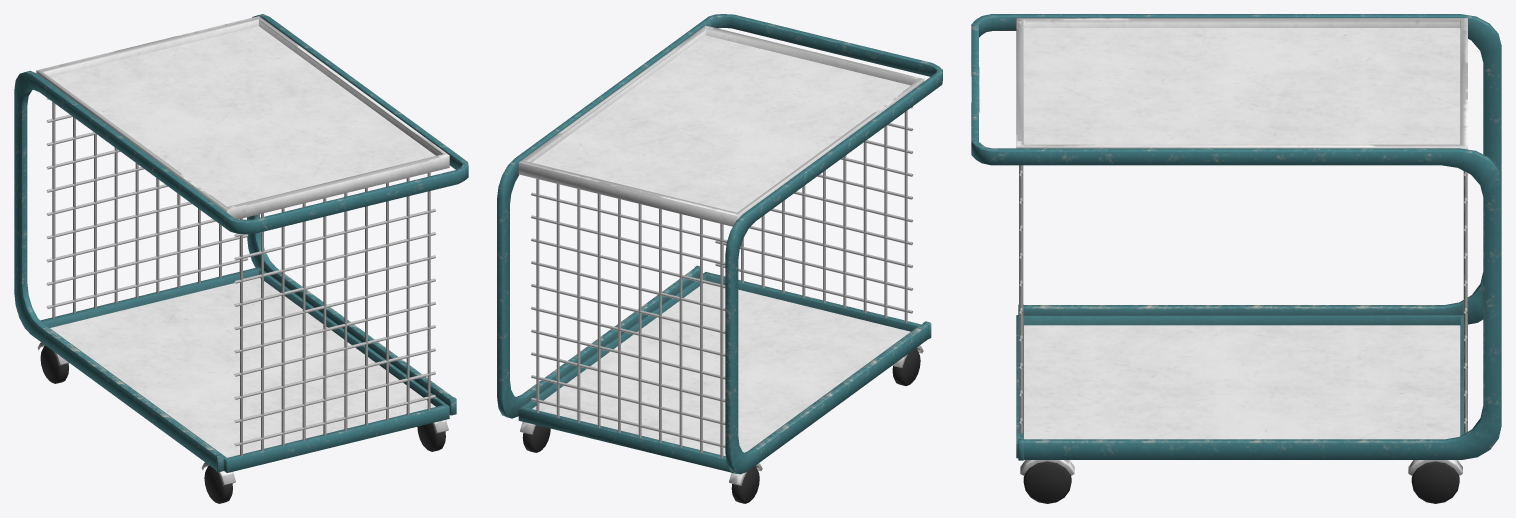
Rendered from tableSmall4.fbx.
3 renders of one model, left to right at view 1: azimuth 30°, elevation 25°; view 2: azimuth 150°, elevation 25°; view 3: azimuth 270°, elevation 25°, orthographic. The views are drawn at different scales.
Visible parts, largest first — view 1: tableSmall4; view 2: tableSmall4; view 3: tableSmall4.
Boxes of the visible parts, left/top/right/bottom form: tableSmall4: left=14, top=14, right=468, bottom=503; tableSmall4: left=497, top=14, right=942, bottom=503; tableSmall4: left=971, top=14, right=1501, bottom=503.
Size of the model in its own units: 22.6 by 27.37 by 36.72.
